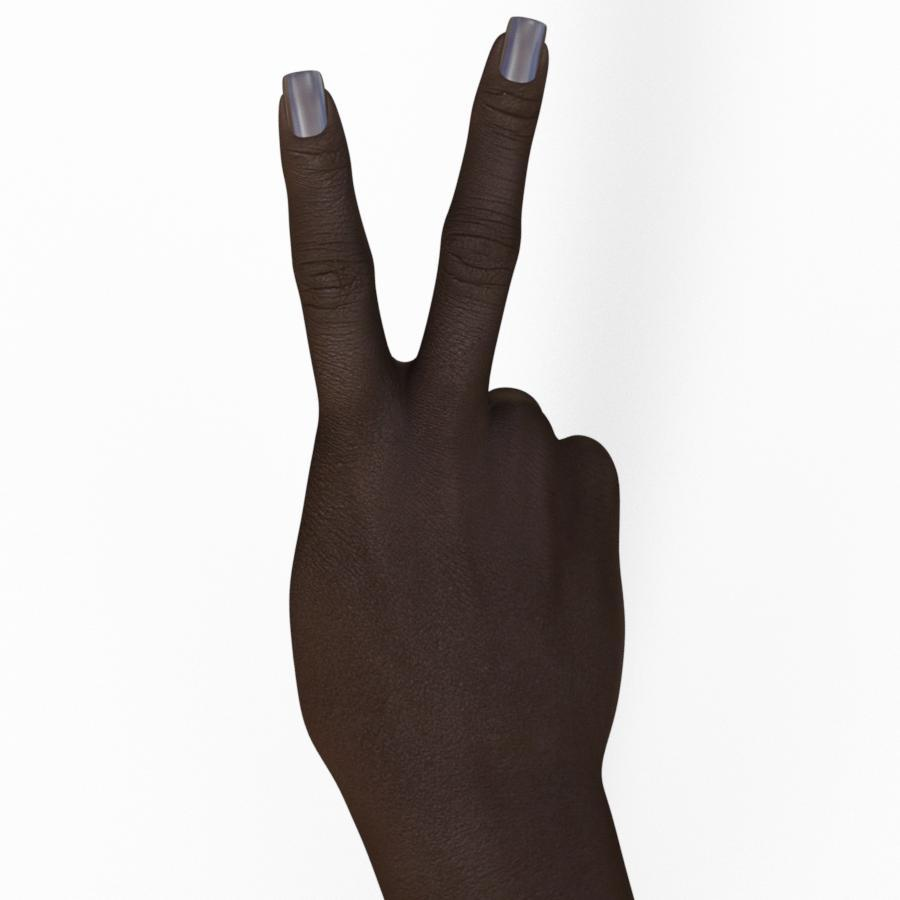scissors: (279, 18, 633, 900)
